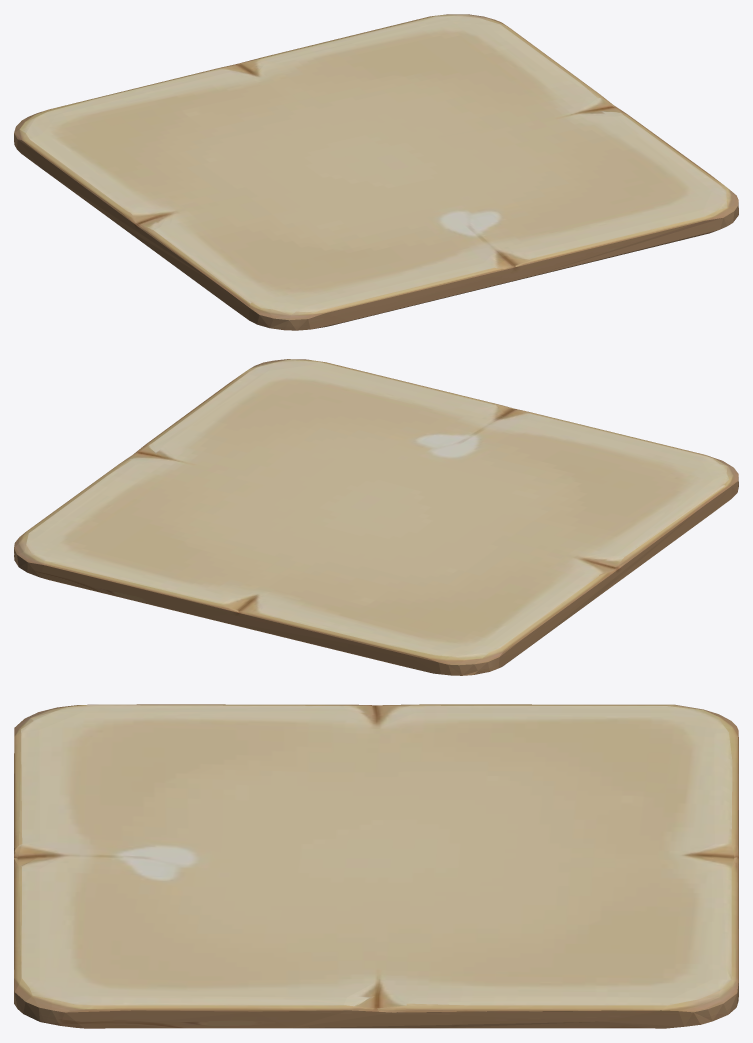
Rendered from baldosa_camino_01.glb.
3 views of the same model, one above another, from view 1: azimuth 30°, elevation 25°; view 2: azimuth 150°, elevation 25°; view 3: azimuth 270°, elevation 25° (orthographic). The views are drawn at different scales.
Parts seen in each view (by area): view 1: BaldosaCamino_01; view 2: BaldosaCamino_01; view 3: BaldosaCamino_01.
Boxes of the visible parts, x1,y1,x2,y2 form: BaldosaCamino_01: (14, 14, 738, 330); BaldosaCamino_01: (14, 359, 738, 675); BaldosaCamino_01: (14, 704, 738, 1028).
Bounding box in the file's own units: 0.98 × 0.035 × 0.98.
1 material, 1 textured.
